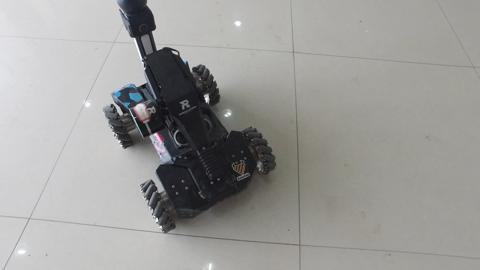chariot: (78, 7, 284, 208)
